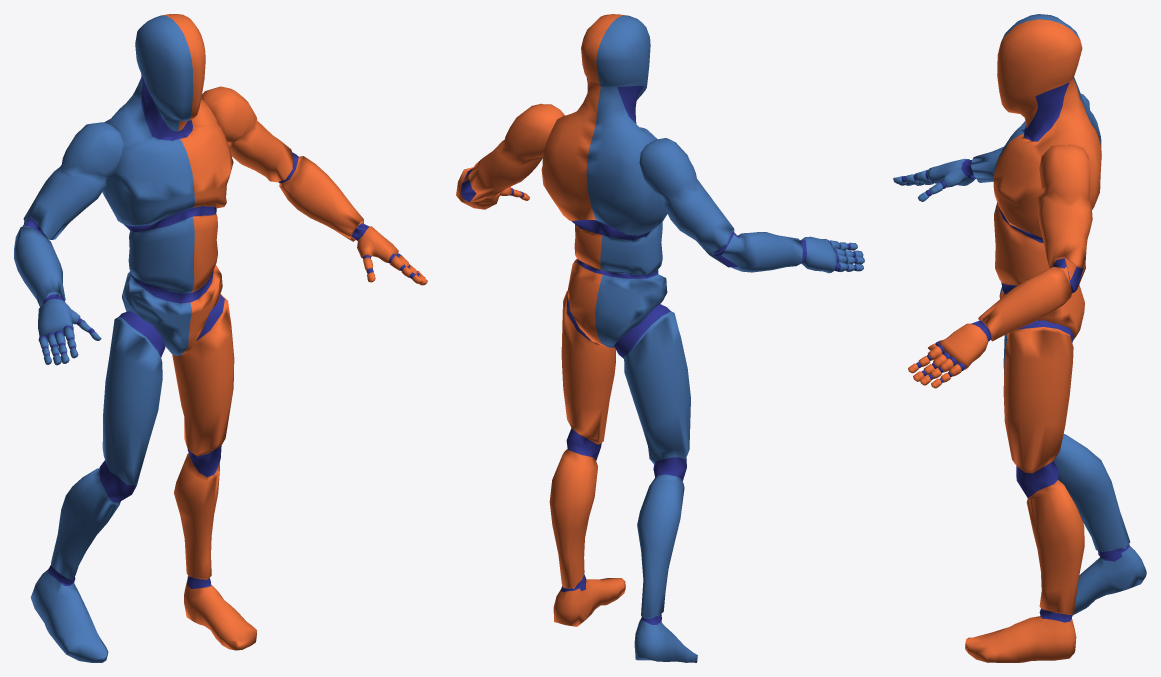
File: model-human-limb-offset.glb
The picture shows the model from 3 angles, left to right: view 1: azimuth 30°, elevation 25°; view 2: azimuth 150°, elevation 25°; view 3: azimuth 270°, elevation 25°; orthographic projection.
Parts seen in each view (by area): view 1: Mannequin; view 2: Mannequin; view 3: Mannequin.
Boxes of the visible parts, left/top/right/bottom form: Mannequin: left=14, top=14, right=427, bottom=662; Mannequin: left=456, top=14, right=864, bottom=662; Mannequin: left=893, top=14, right=1146, bottom=662.
Bounding box in the file's own units: 1.22 × 1.88 × 0.684.
1 material, 1 textured.
